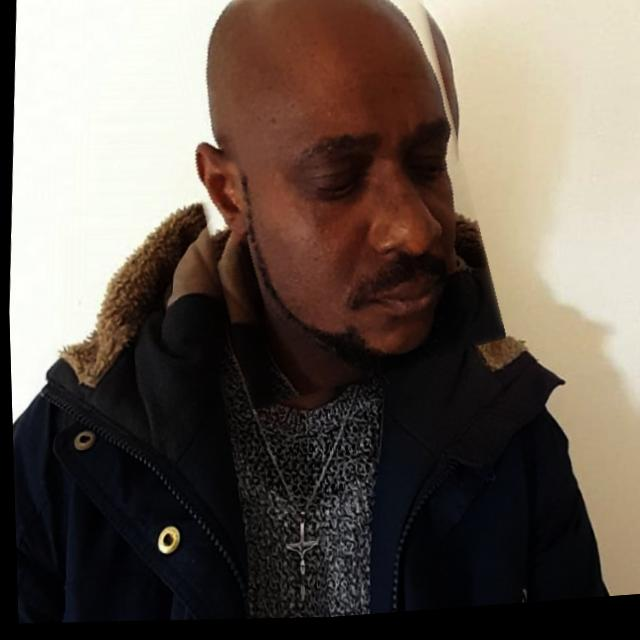sad: (160, 0, 499, 417)
